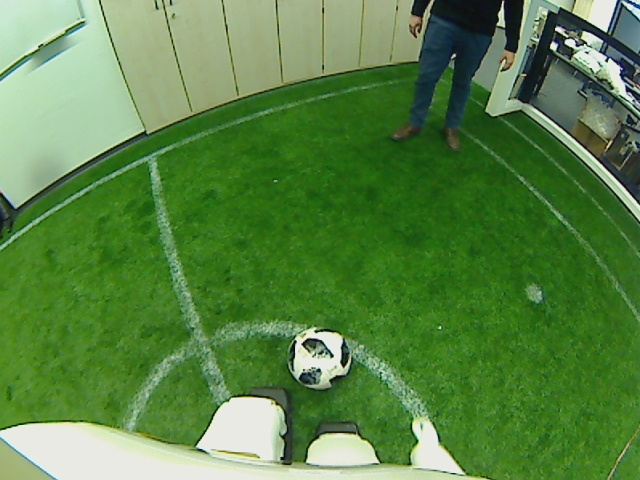ball: (285, 325, 350, 392)
